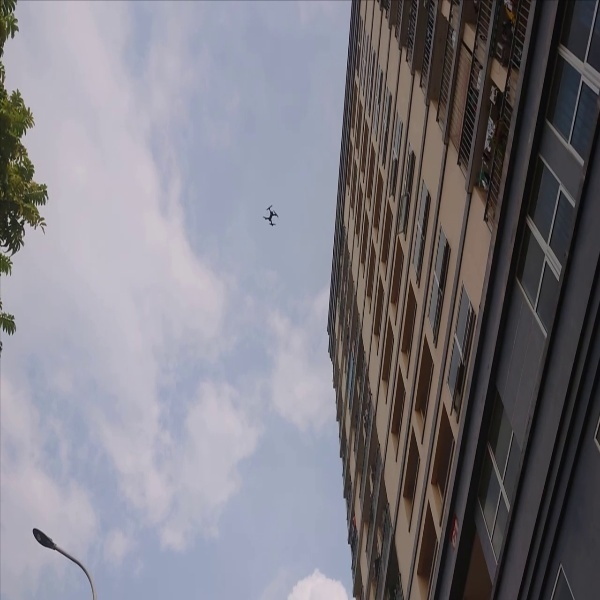drone: (259, 200, 286, 232)
